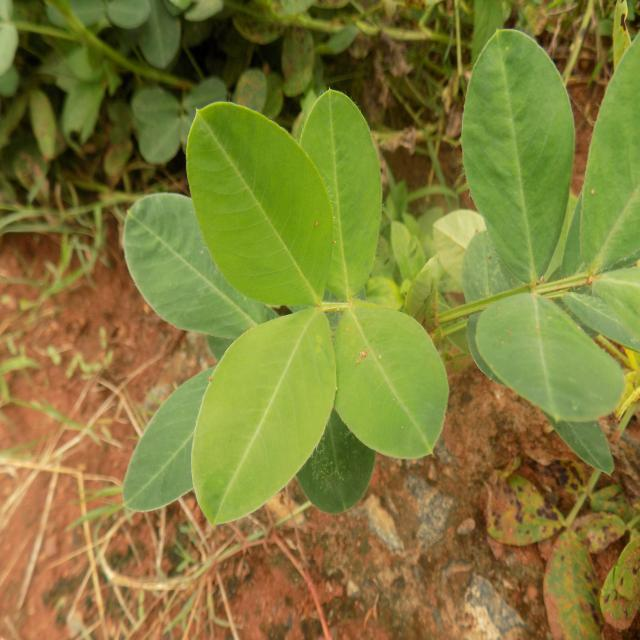Ground nut_healthy: (189, 95, 335, 319), (462, 17, 572, 282), (192, 333, 338, 524), (124, 188, 274, 336), (334, 298, 455, 472), (477, 298, 623, 429)
